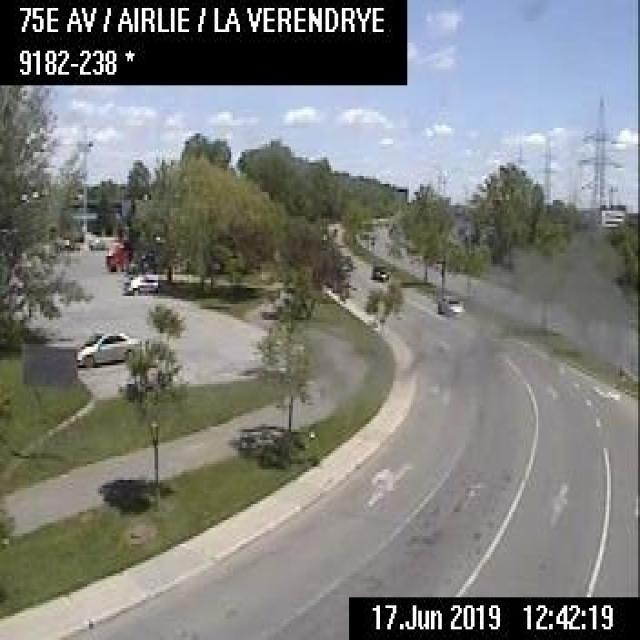vehicle: (74, 324, 140, 364), (436, 292, 465, 318), (124, 272, 157, 291), (371, 261, 391, 283), (87, 235, 107, 250)
